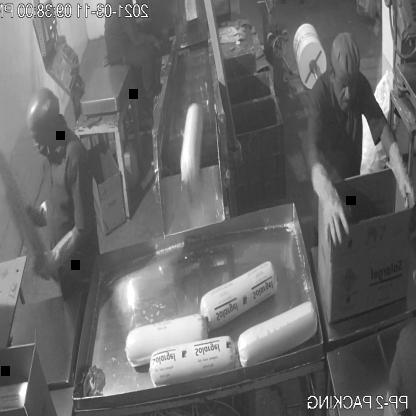glove: (308, 164, 354, 250), (34, 222, 81, 282), (387, 128, 416, 217)
no_glove: (124, 27, 161, 63)
